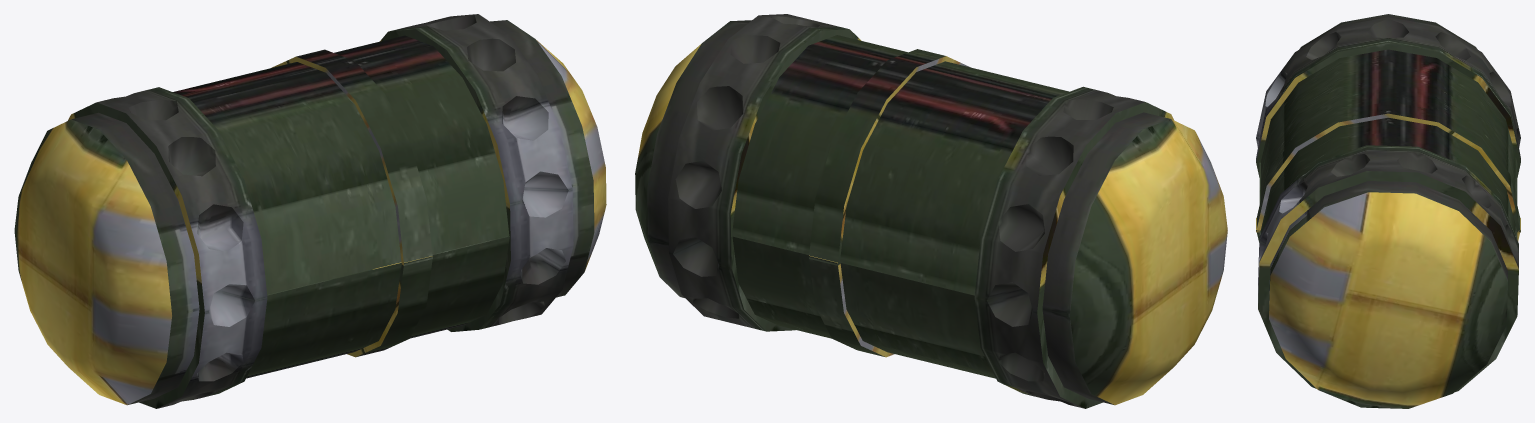
File: t5_weapon_nova_gas_viewmodel.glb
The picture shows the model from 3 angles, left to right: view 1: azimuth 30°, elevation 25°; view 2: azimuth 150°, elevation 25°; view 3: azimuth 270°, elevation 25°; orthographic projection. The views are drawn at different scales.
Visible parts, largest first — view 1: t5_weapon_nova_gas_viewmodel; view 2: t5_weapon_nova_gas_viewmodel; view 3: t5_weapon_nova_gas_viewmodel.
Part boxes in pixels (x1=…): t5_weapon_nova_gas_viewmodel: x1=14, y1=14, x2=606, y2=408; t5_weapon_nova_gas_viewmodel: x1=635, y1=14, x2=1227, y2=408; t5_weapon_nova_gas_viewmodel: x1=1256, y1=14, x2=1520, y2=408.
Size of the model in its own units: 0.2952 by 0.1619 by 0.1619.
Materials: 1 (1 with a texture image).
